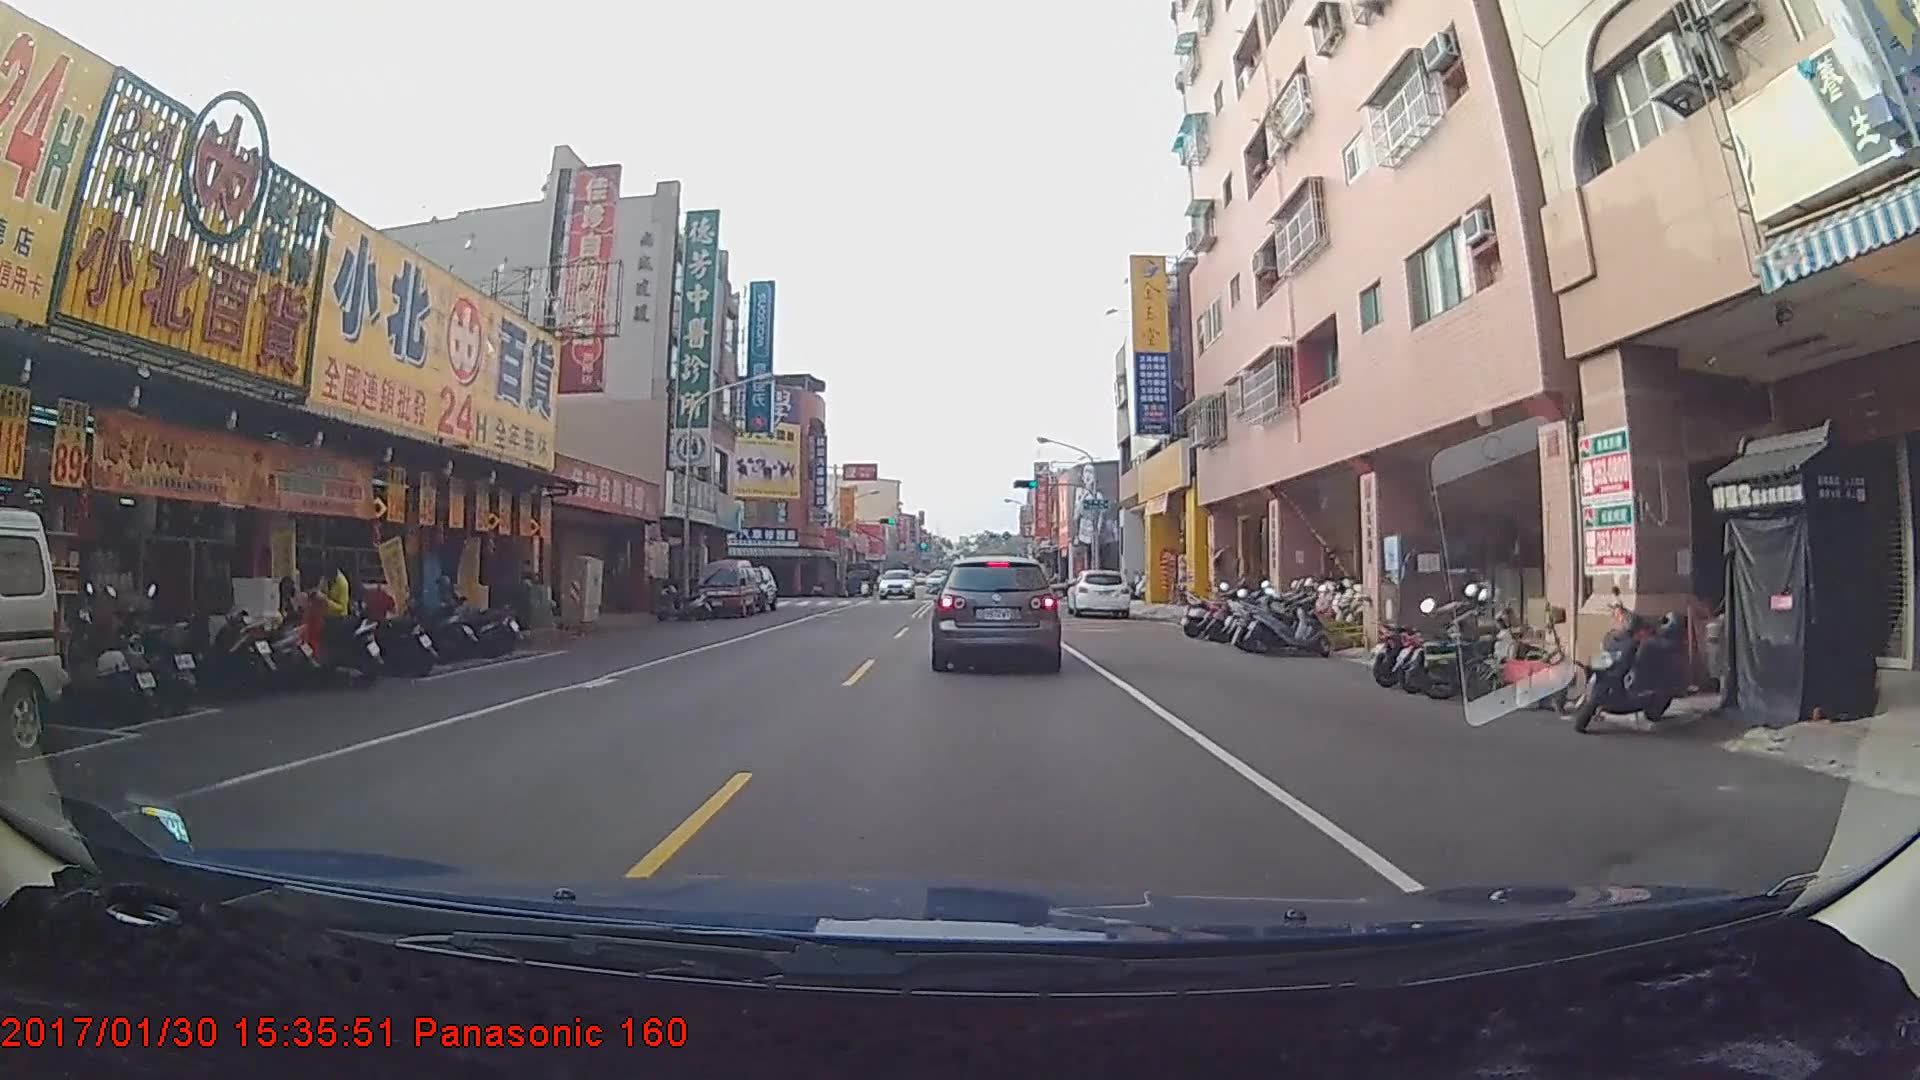pedestrian: (305, 553, 354, 659)
vehicle: (932, 553, 1062, 671), (696, 562, 756, 625), (1067, 567, 1132, 619), (874, 562, 918, 600)
